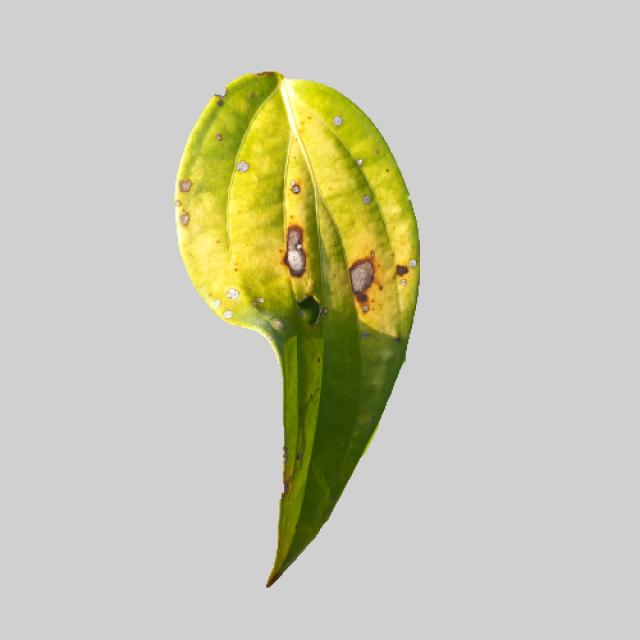leaf-blight: (152, 76, 424, 590)
